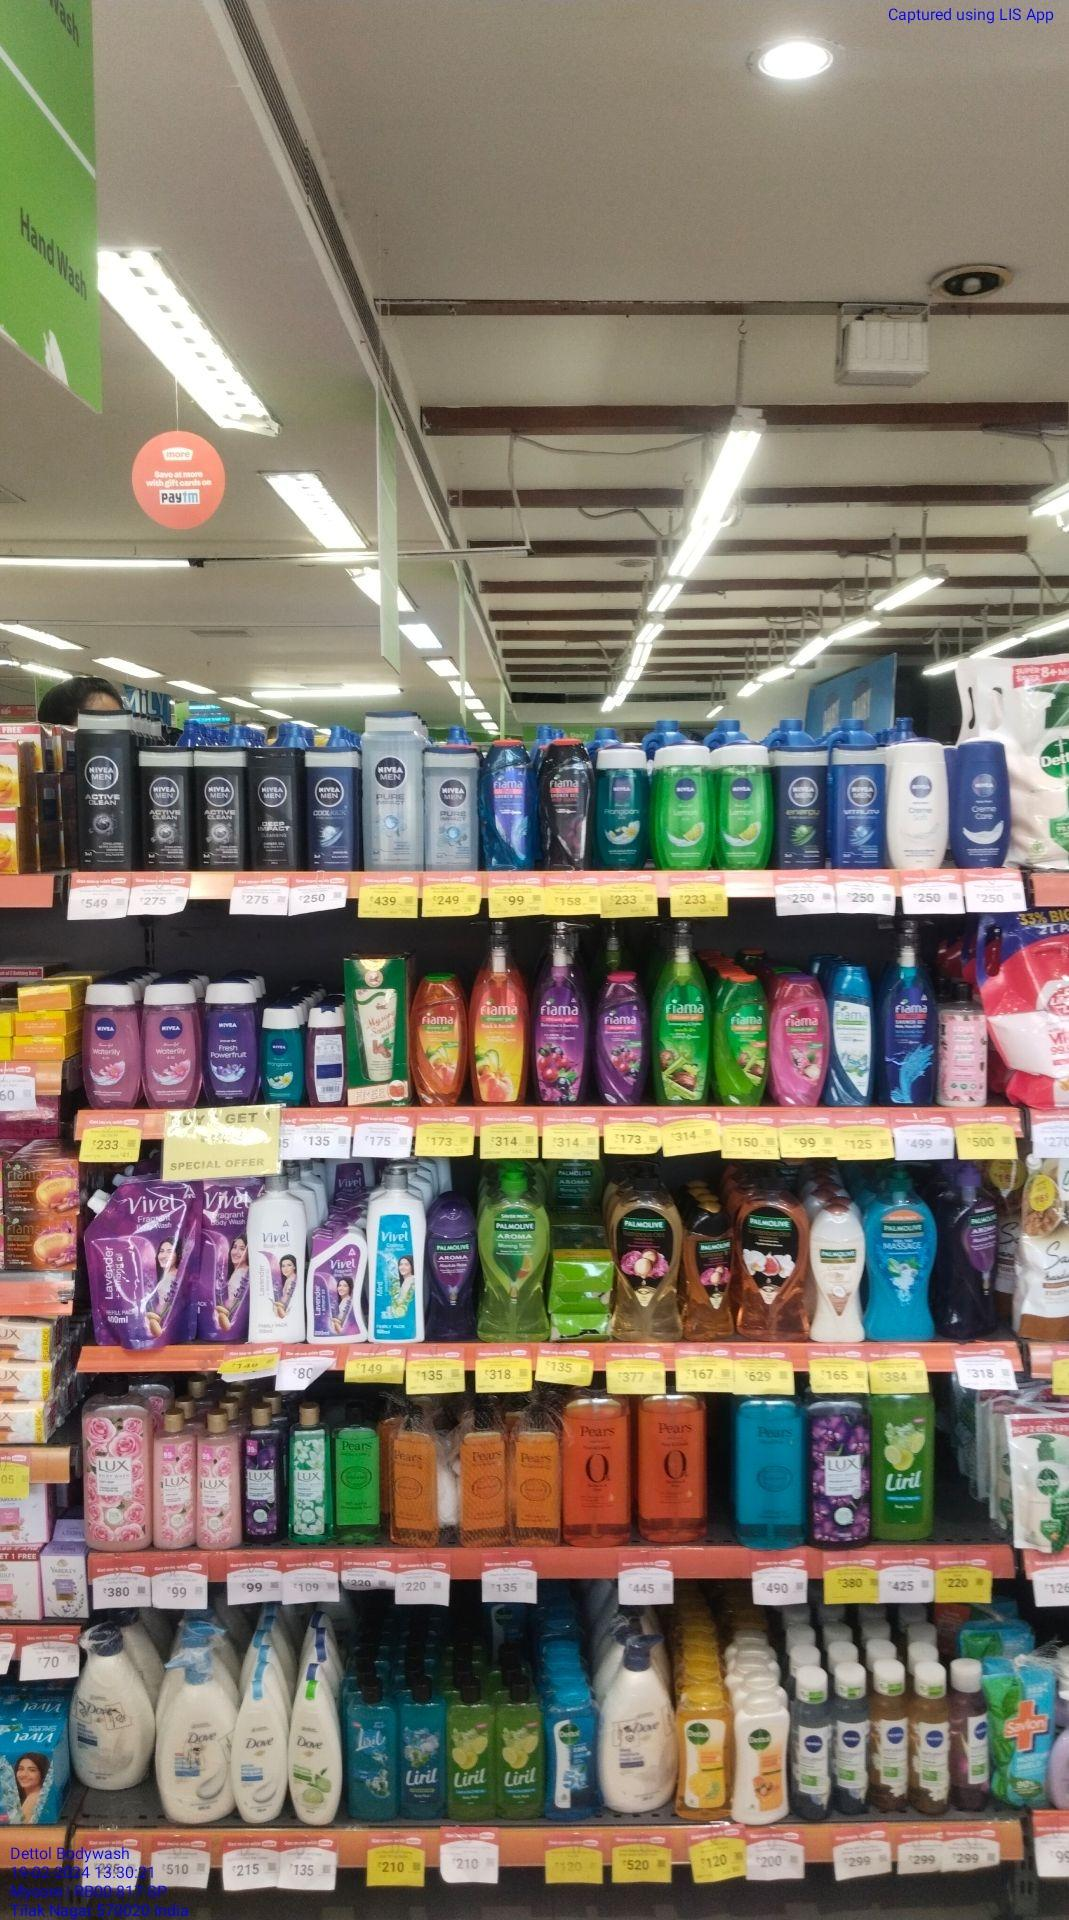Dettol_Bodywash_Cool: (550, 1696, 599, 1816)
Dettol_Bodywash_Refresh: (674, 1687, 731, 1819)
Dove_Gentle_Exfoliating_Body_Wash_250ML: (237, 1679, 288, 1831)
Dove_Refreshing_Body_Wash_250ML: (291, 1678, 342, 1827)
Fiama_Shower_Gel_Lemongrass_and_Jojoba_250ML: (714, 973, 769, 1108)
Fiama_Shower_Gel_Patchouli_and_Macadamia_250ML: (773, 974, 829, 1101)
Fiama_Shower_Gel_Peach_and_Avocado_250ML: (411, 974, 463, 1109)
Liril_Cooling_Mint_Body_Wash_250ML: (398, 1682, 446, 1819)
Liril_Lime_and_Tea_Tree_Oil_Body_Wash_250ML: (495, 1683, 546, 1819), (449, 1684, 492, 1820)
Lux_Black_Orchid_Scent_and_Juniper_Oil_Body_Wash_245ML: (245, 1404, 283, 1546)
Lux_Body_Wash_Skin_Detox_Freesia_Scent_and_Alove_Vera_245ML: (290, 1404, 330, 1545)
Nivea_Shower_Gel_Frangipani_and_Oil_250ML: (600, 744, 658, 862), (259, 1003, 304, 1100)
Nivea_Shower_Gel_Fresh_Powerfruit_250ML: (204, 978, 262, 1104)
Nivea_Shower_Gel_Lemon_and_Oil_250ML: (714, 741, 773, 865), (657, 742, 715, 869)
Nivea_Shower_Gel_Waterlily_and_Oil_250ML: (145, 980, 200, 1104), (84, 984, 138, 1108)
Palmolive_Aroma_Relax_250ML: (427, 1199, 474, 1344)
Palmolive_Coconut_Joy_Exfoliating_Body_Wash_250ML: (804, 1205, 868, 1342)
